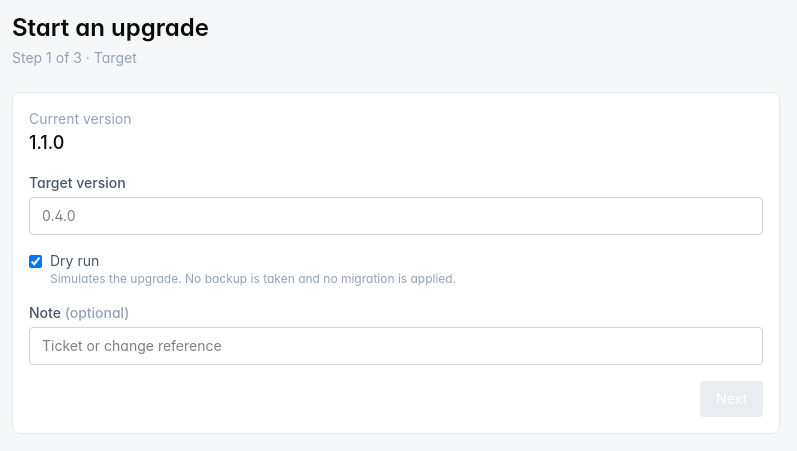
Test: StartUpgradePage › blocks the step when pre-validation fails, until force is checked
Expected: the text "1.1.0" is shown, [29,132,64,153]
Type "1.2.0" into the field labelled "Target version" at (396, 216), box [29,197,763,235]
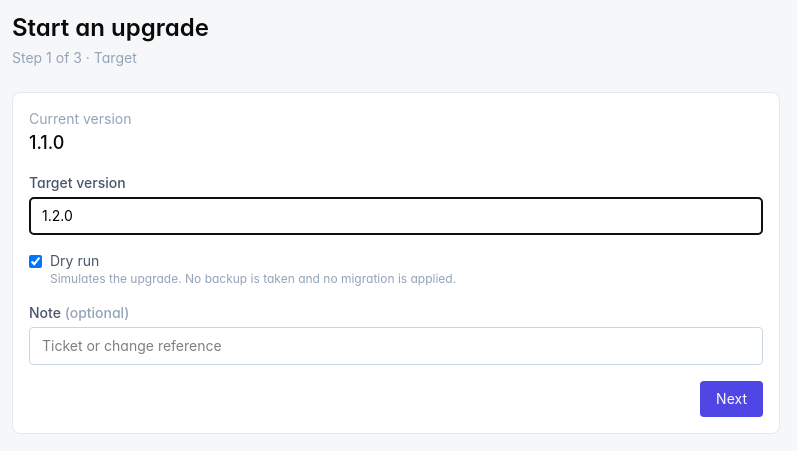
Click the button "Next" at (732, 399), box [700,381,763,417]
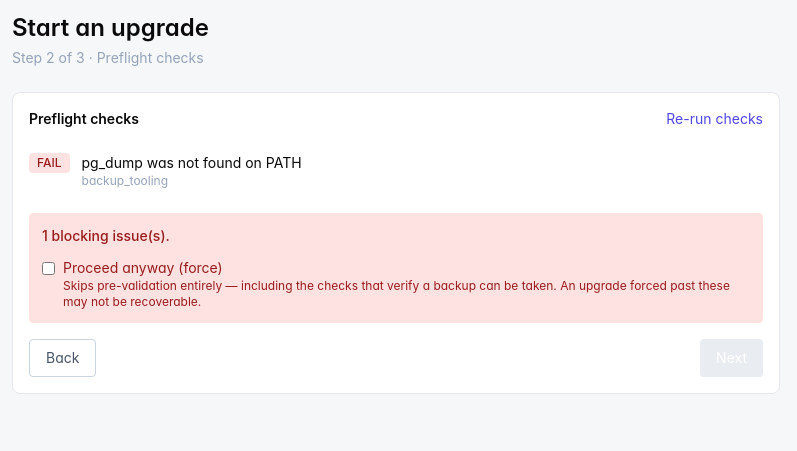
Result: the text "pg_dump was not found on PATH" is shown at [82,153,302,173]
Click the checkbox labelled "Proceed anyway" at (48, 268), box [42,262,55,275]
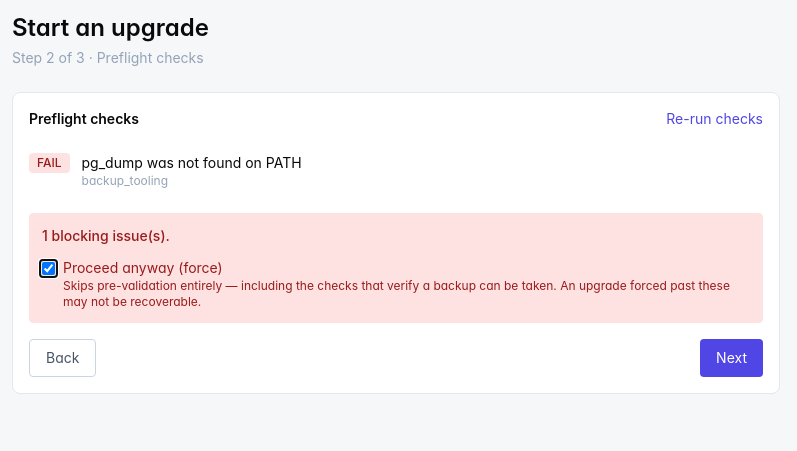
Result: the button "Next" is enabled at [700,339,763,377]
